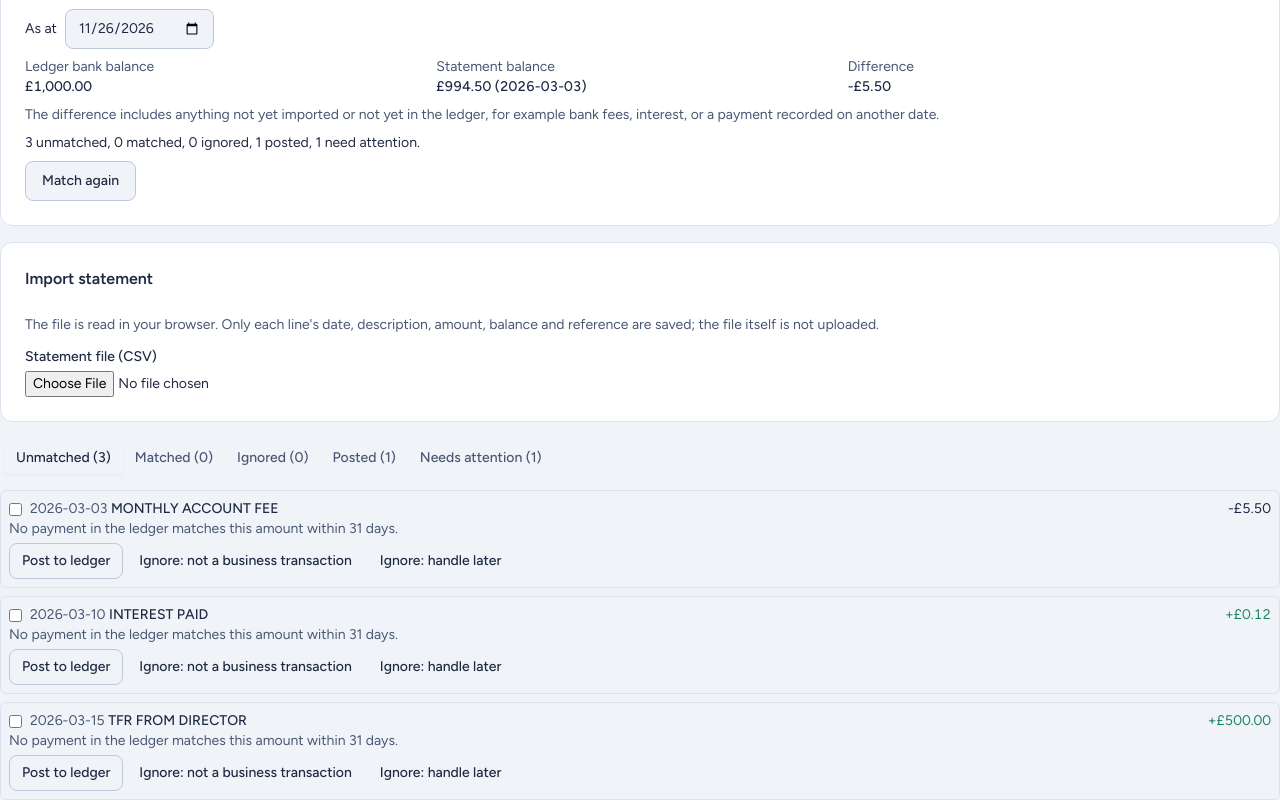
Scenario: Bank: post a line to the ledger › the panel: plain effect, suggested account pre-selected, only allowed accounts, the hints; then Post
This screenshot has width=1280, height=800.
(page scrolled)
Expected: the text "MONTHLY ACCOUNT FEE" is shown, [111,500,279,517]
Click the button "Post to ledger" below "MONTHLY ACCOUNT FEE" at (66, 561), box [9,543,123,579]
(page scrolled)
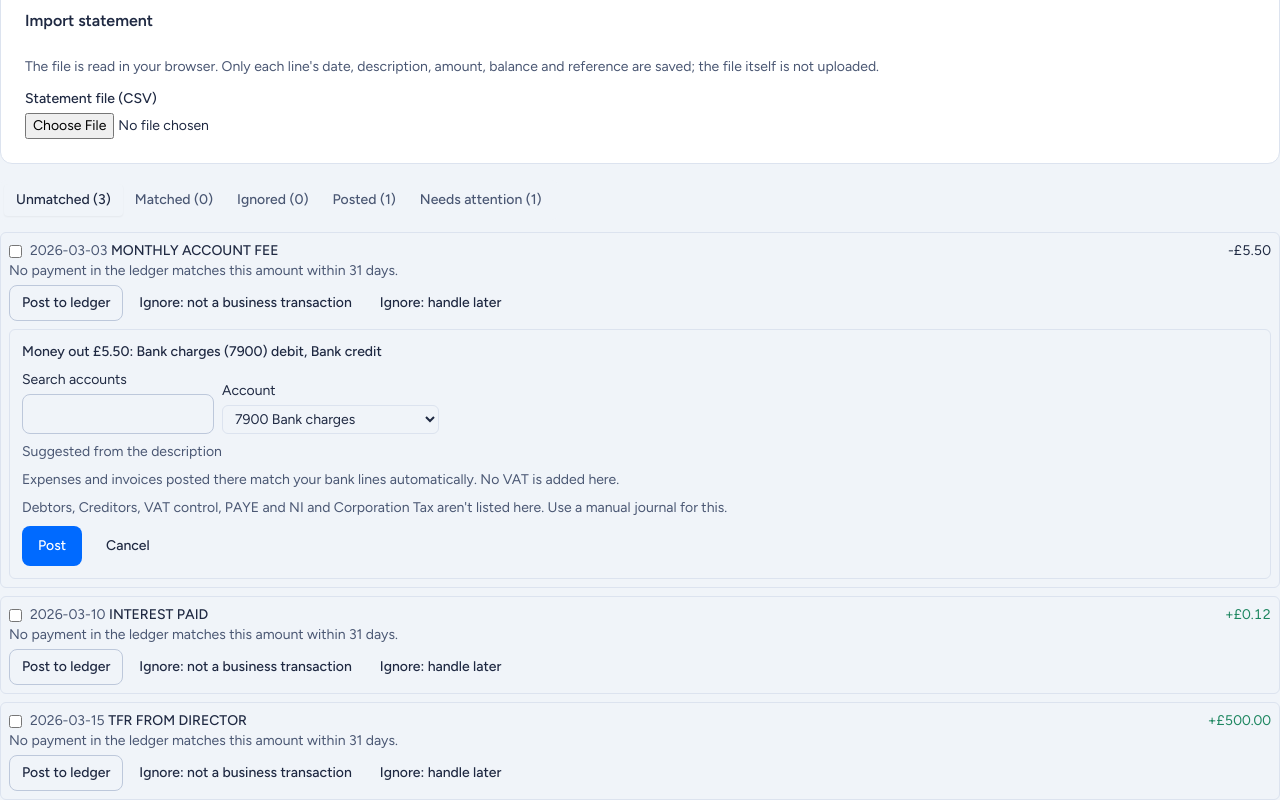
Now the text with test id "bank-post-effect" reads "Money out £5.50: Bank charges (7900) debit, Bank credit", box [22,343,382,360]
Now the text with test id "bank-post-suggested" reads "Suggested from the description", box [22,443,222,460]
Now the element with test id "bank-post-panel" shows "Expenses and invoices posted there match your bank lines automatically. No VAT is added here.", box [9,329,1271,579]
Click the button "Post" at (52, 546), box [22,526,82,566]
(page scrolled)
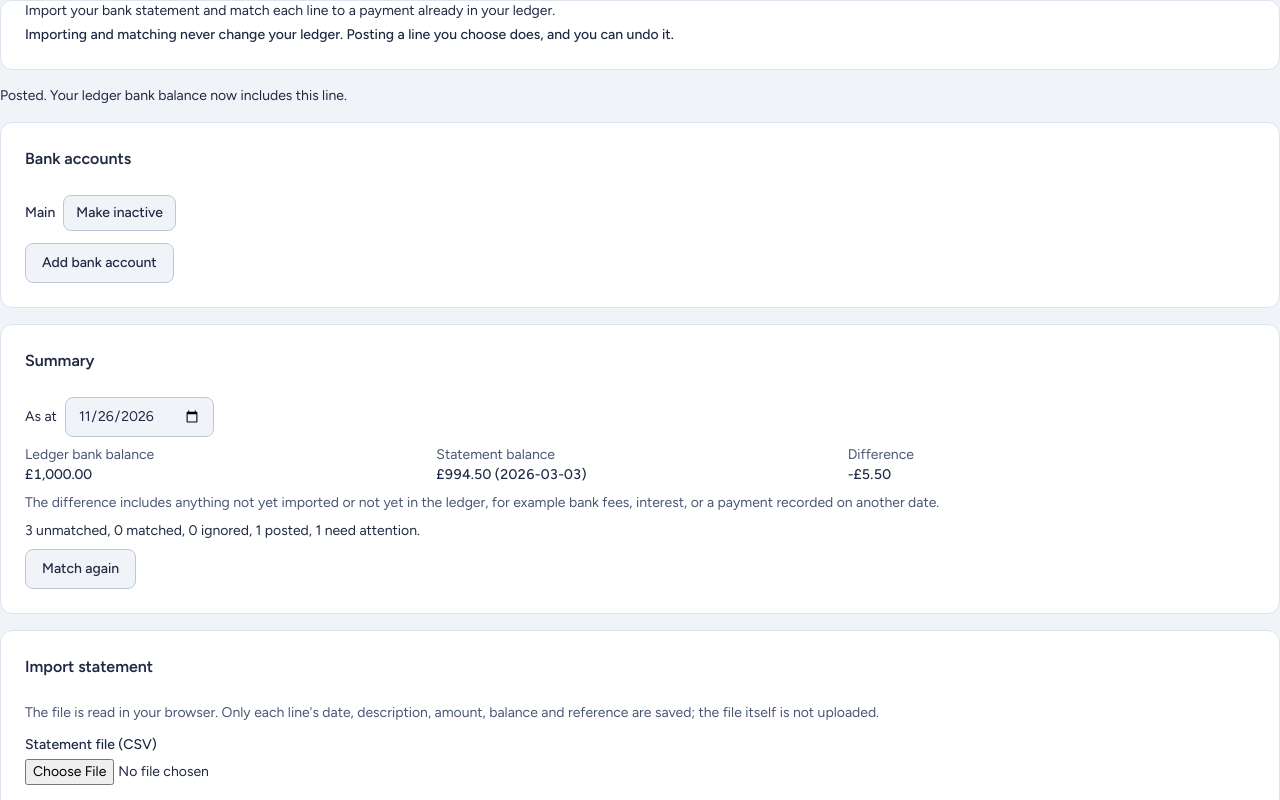
Now the message with test id "bank-message" reads "Posted. Your ledger bank balance now includes this line.", box [0,87,347,104]
